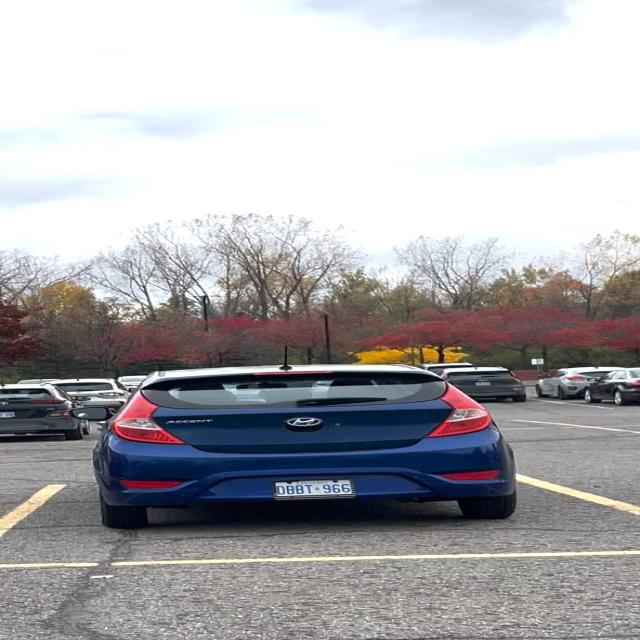plaque: (274, 480, 355, 498), (0, 412, 15, 418), (476, 381, 490, 385)
